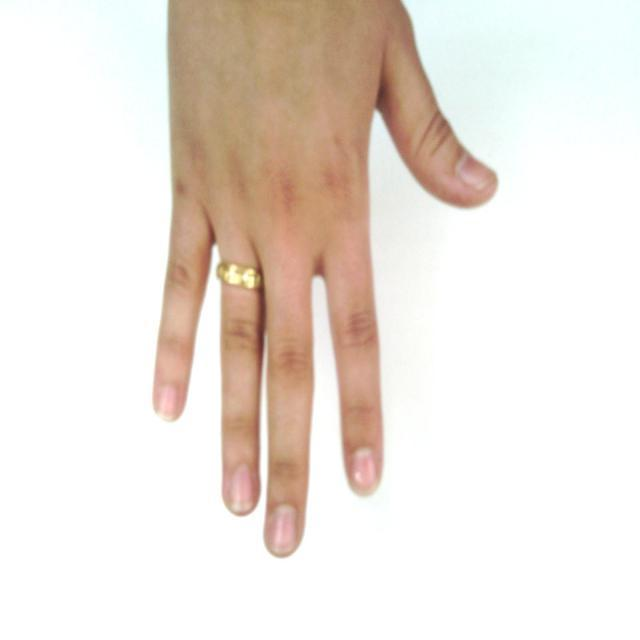Fingernail: (268, 506, 297, 556), (352, 448, 378, 497), (230, 464, 255, 513), (459, 155, 494, 190), (159, 386, 179, 421)
